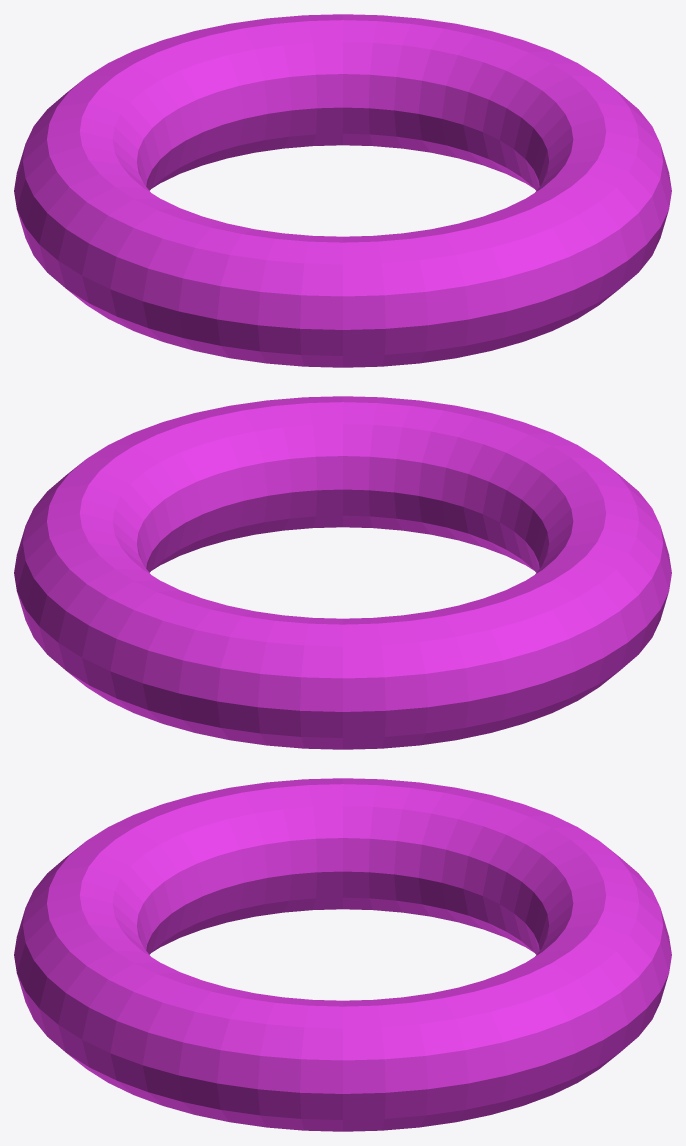
Rendered from davidSphereB1.gltf.
3 views of the same model, one above another, from view 1: azimuth 30°, elevation 25°; view 2: azimuth 150°, elevation 25°; view 3: azimuth 270°, elevation 25° (orthographic).
Parts seen in each view (by area): view 1: davidSphereB1; view 2: davidSphereB1; view 3: davidSphereB1.
Boxes of the visible parts, box(x1,y1,x2,y2) form: davidSphereB1: box(14, 14, 671, 367); davidSphereB1: box(14, 396, 671, 749); davidSphereB1: box(14, 778, 671, 1131).
Size of the model in its own units: 0.8064 by 0.1613 by 0.8064.
